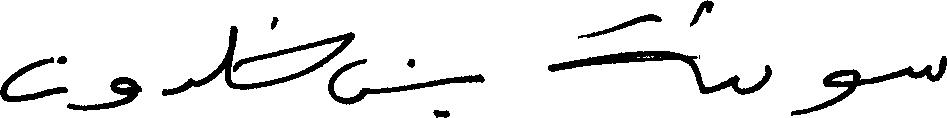X: (237, 12, 347, 109), (549, 9, 693, 76), (695, 0, 770, 99), (0, 51, 67, 112), (825, 64, 860, 112), (349, 27, 368, 109), (908, 51, 946, 86), (111, 72, 137, 112), (223, 21, 235, 93), (162, 73, 193, 100), (474, 69, 484, 87)
